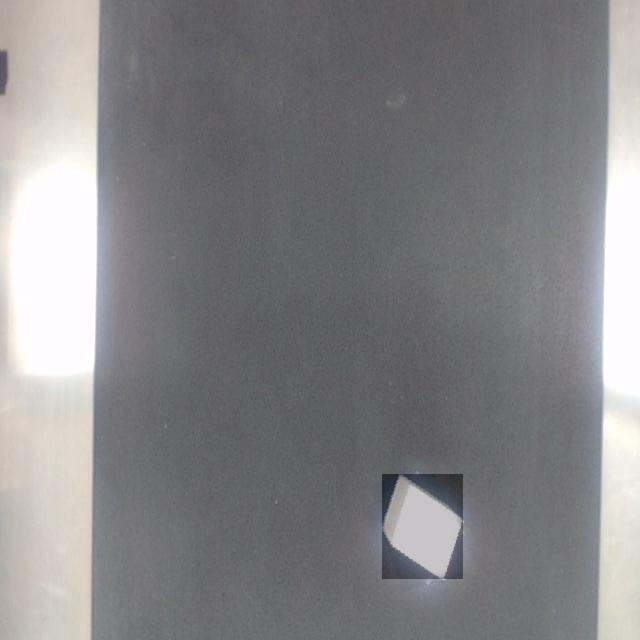Blanco: (383, 475, 463, 579)
